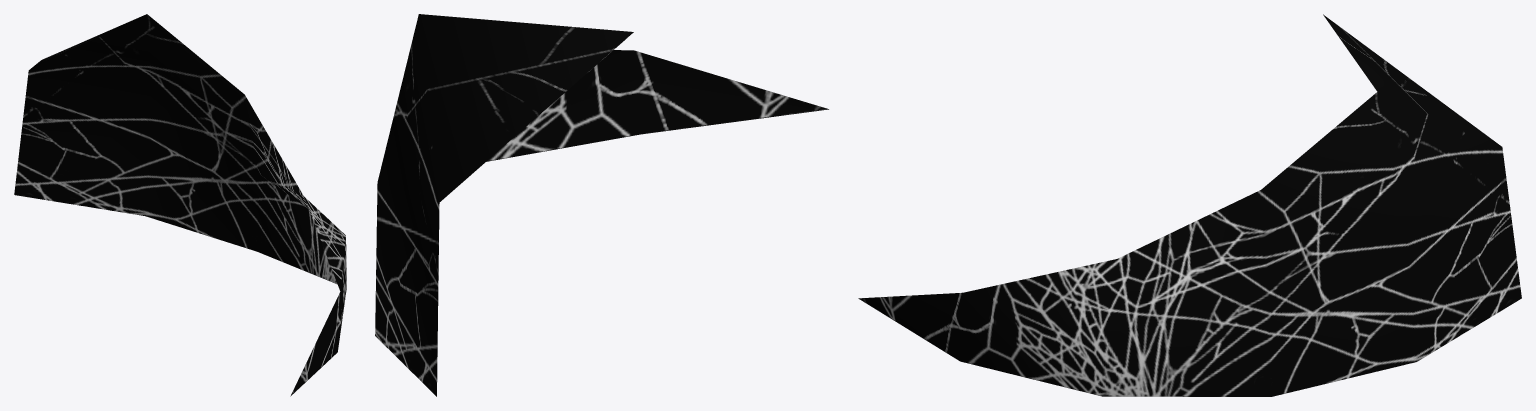
File: Li_Web_spider.FBX
3 renders of one model, left to right at view 1: azimuth 30°, elevation 25°; view 2: azimuth 150°, elevation 25°; view 3: azimuth 270°, elevation 25°, orthographic. The views are drawn at different scales.
Visible parts, largest first — view 1: LI_Web_01; view 2: LI_Web_01; view 3: LI_Web_01.
Part boxes in pixels (<box>): LI_Web_01: <box>14,14,346,396</box>; LI_Web_01: <box>375,14,828,396</box>; LI_Web_01: <box>858,14,1521,396</box>.
Size of the model in its own units: 22.62 by 22.57 by 50.49.
Materials: 1 (1 with a texture image).
